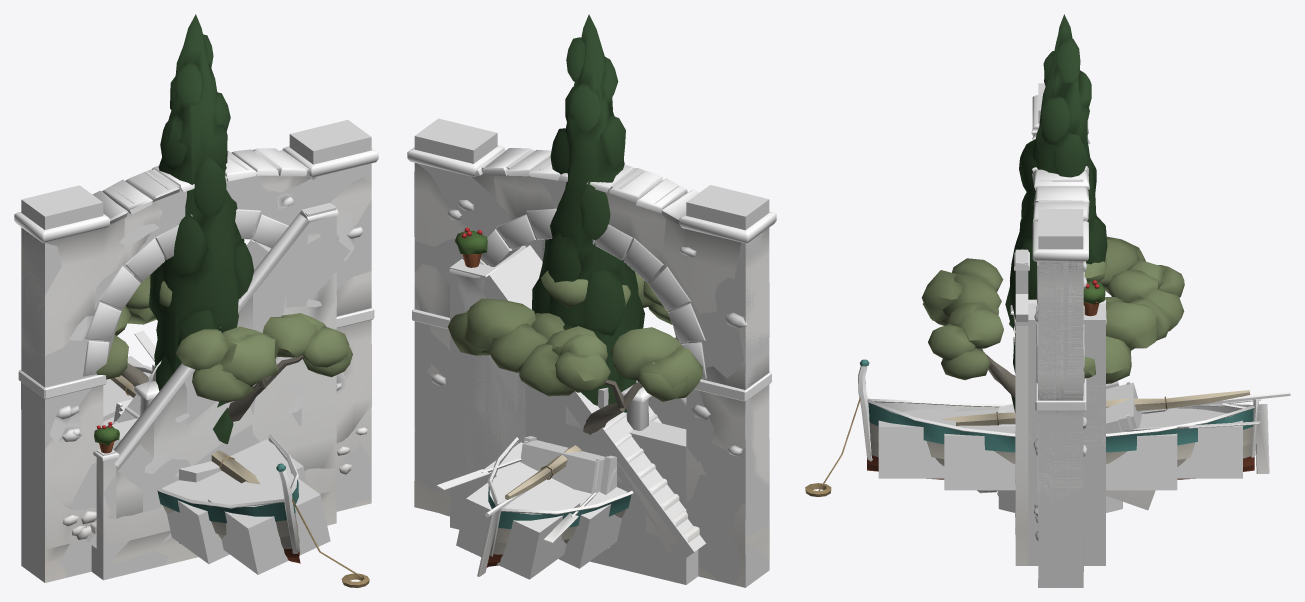
File: street.glb
3 views of the same model, side by side, from view 1: azimuth 30°, elevation 25°; view 2: azimuth 150°, elevation 25°; view 3: azimuth 270°, elevation 25° (orthographic). The views are drawn at different scales.
Visible parts, largest first — view 1: T_Gate, T_Stair, T_Cypress_leaves, T_Boat, T_Olive_leaves, T_Olive, T_Well; view 2: T_Gate, T_Stair, T_Cypress_leaves, T_Olive_leaves, T_Boat, T_Cart, T_GardenWall, T_Olive, T_Well; view 3: T_Boat, T_Gate, T_Olive_leaves, T_Stair, T_Cypress_leaves, T_Cart, T_Well.
Boxes of the visible parts, <box> form: T_Gate: <box>14,120,378,582</box>; T_Stair: <box>84,203,350,580</box>; T_Cypress_leaves: <box>148,14,253,443</box>; T_Boat: <box>103,330,369,587</box>; T_Olive_leaves: <box>96,275,352,402</box>; T_Olive: <box>121,355,304,421</box>; T_Well: <box>134,360,221,543</box>; T_Gate: <box>407,118,776,587</box>; T_Stair: <box>449,227,705,584</box>; T_Cypress_leaves: <box>532,14,644,412</box>; T_Olive_leaves: <box>448,270,702,401</box>; T_Boat: <box>436,437,633,579</box>; T_Cart: <box>520,436,616,494</box>; T_GardenWall: <box>629,420,686,508</box>; T_Olive: <box>583,379,642,434</box>; T_Well: <box>608,380,651,548</box>; T_Boat: <box>805,359,1290,496</box>; T_Gate: <box>1031,83,1090,587</box>; T_Olive_leaves: <box>921,236,1184,383</box>; T_Stair: <box>1009,249,1106,565</box>; T_Cypress_leaves: <box>1005,14,1107,412</box>; T_Cart: <box>1106,381,1155,510</box>; T_Well: <box>977,404,1122,512</box>.
Bounding box in the file's own units: 5.77 × 8.52 × 7.5.
